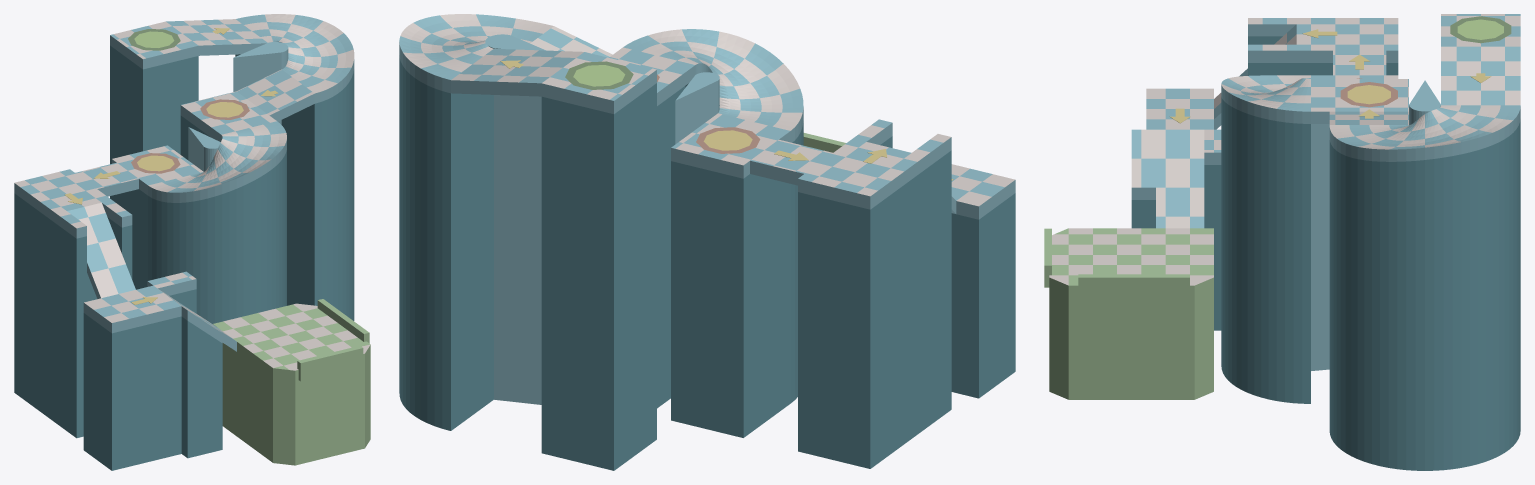
File: level2-desktop.glb
The picture shows the model from 3 angles, left to right: view 1: azimuth 30°, elevation 25°; view 2: azimuth 150°, elevation 25°; view 3: azimuth 270°, elevation 25°; orthographic projection. The views are drawn at different scales.
Visible parts, largest first — view 1: 转轴紧凑反向弯 · 贴合曲面实体塔柱, 紧凑贴柱宽弯 · 贴合曲面实体塔柱, 低层中继实体塔台 · 实体台柱, 绿色终点 · 实体台柱, 陡降入口塔台 · 实体台柱, 起点塔台 · 实体台柱, 第一方孔侧壁 · 实体台柱 (×2), 绿色终点, 紧凑贴柱宽弯, 转轴紧凑反向弯, 第二方孔前侧斜低边 · 实体台柱, 向前陡降槽 (+18 smaller); view 2: 起点塔台 · 实体台柱, 陡降入口塔台 · 实体台柱, 紧凑贴柱宽弯 · 贴合曲面实体塔柱, 第二存档塔台 · 实体台柱, 贴弯尖脊 / 可用作侧墙 (×2), 低层中继实体塔台 · 实体台柱, 转轴紧凑反向弯, 第一方孔侧壁 · 实体台柱, 紧凑贴柱宽弯, 陡降入口塔台, 第一存档塔台 · 实体台柱, 短入口缓坡 (+11 smaller); view 3: 紧凑贴柱宽弯 · 贴合曲面实体塔柱, 转轴紧凑反向弯 · 贴合曲面实体塔柱, 绿色终点 · 实体台柱, 绿色终点, 紧凑贴柱宽弯, 贴弯尖脊 / 可用作侧墙 (×2), 横向陡降槽, 短入口缓坡, 陡降入口塔台, 转轴紧凑反向弯, 绿色终点护边, 低层中继实体塔台 (+14 smaller).
Part boxes in pixels (bbox=[...]): 转轴紧凑反向弯 · 贴合曲面实体塔柱: bbox=[148, 150, 286, 323]; 紧凑贴柱宽弯 · 贴合曲面实体塔柱: bbox=[235, 54, 354, 320]; 低层中继实体塔台 · 实体台柱: bbox=[83, 313, 181, 470]; 绿色终点 · 实体台柱: bbox=[222, 343, 370, 465]; 陡降入口塔台 · 实体台柱: bbox=[14, 193, 97, 422]; 起点塔台 · 实体台柱: bbox=[110, 45, 198, 199]; 第一方孔侧壁 · 实体台柱 (×2): bbox=[56, 217, 132, 438]; 绿色终点: bbox=[213, 303, 370, 380]; 紧凑贴柱宽弯: bbox=[236, 14, 354, 103]; 转轴紧凑反向弯: bbox=[148, 121, 286, 202]; 第二方孔前侧斜低边 · 实体台柱: bbox=[181, 317, 222, 458]; 向前陡降槽: bbox=[67, 202, 135, 298]; 起点塔台 · 实体台柱: bbox=[541, 83, 656, 470]; 陡降入口塔台 · 实体台柱: bbox=[798, 170, 925, 468]; 紧凑贴柱宽弯 · 贴合曲面实体塔柱: bbox=[399, 55, 493, 430]; 第二存档塔台 · 实体台柱: bbox=[671, 161, 790, 437]; 贴弯尖脊 / 可用作侧墙 (×2): bbox=[485, 34, 719, 404]; 低层中继实体塔台 · 实体台柱: bbox=[951, 193, 1015, 398]; 转轴紧凑反向弯: bbox=[623, 29, 803, 142]; 第一方孔侧壁 · 实体台柱: bbox=[925, 150, 951, 428]; 紧凑贴柱宽弯: bbox=[399, 14, 553, 93]; 陡降入口塔台: bbox=[798, 138, 925, 209]; 第一存档塔台 · 实体台柱: bbox=[657, 86, 685, 408]; 短入口缓坡: bbox=[451, 48, 583, 96]; 紧凑贴柱宽弯 · 贴合曲面实体塔柱: bbox=[1329, 119, 1520, 470]; 转轴紧凑反向弯 · 贴合曲面实体塔柱: bbox=[1221, 97, 1310, 403]; 绿色终点 · 实体台柱: bbox=[1049, 290, 1213, 399]; 绿色终点: bbox=[1049, 228, 1213, 297]; 紧凑贴柱宽弯: bbox=[1329, 105, 1520, 161]; 贴弯尖脊 / 可用作侧墙 (×2): bbox=[1306, 78, 1440, 370]; 横向陡降槽: bbox=[1156, 129, 1204, 228]; 短入口缓坡: bbox=[1441, 46, 1520, 105]; 陡降入口塔台: bbox=[1296, 18, 1398, 62]; 转轴紧凑反向弯: bbox=[1221, 75, 1310, 123]; 绿色终点护边: bbox=[1078, 274, 1189, 299]; 低层中继实体塔台: bbox=[1146, 88, 1213, 129].
Size of the model in its own units: 9.97 by 7.82 by 9.82.
